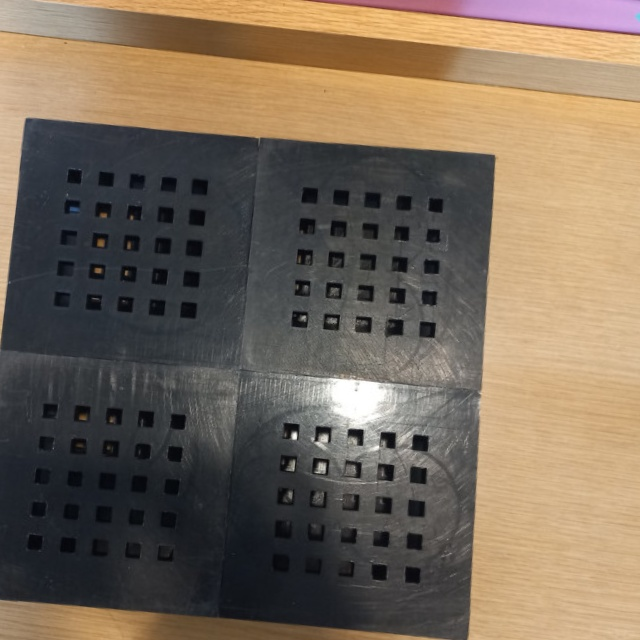pallet: (0, 105, 506, 640)
